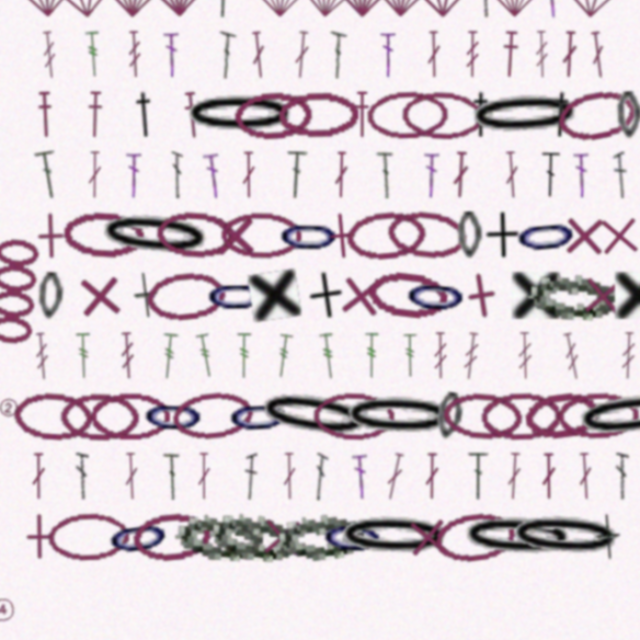chain: (231, 402, 344, 461), (522, 404, 634, 459), (87, 241, 198, 293), (462, 517, 572, 566), (425, 133, 535, 181), (419, 518, 528, 566), (311, 409, 420, 455), (306, 519, 415, 564), (166, 135, 274, 178), (506, 129, 586, 185), (190, 516, 274, 567), (251, 516, 335, 567), (395, 516, 473, 568), (156, 406, 235, 457), (352, 241, 430, 292), (334, 296, 411, 347), (132, 297, 210, 347), (160, 518, 242, 565), (477, 406, 552, 457), (315, 242, 392, 291), (482, 299, 563, 345), (120, 517, 196, 566), (403, 408, 480, 456), (57, 243, 133, 290), (142, 243, 217, 290), (12, 408, 86, 455), (213, 134, 288, 180), (367, 134, 442, 180), (335, 134, 411, 179), (286, 409, 361, 454), (509, 409, 584, 454), (44, 519, 119, 564), (439, 409, 513, 454), (254, 135, 328, 179), (202, 245, 276, 289), (95, 517, 160, 567), (55, 410, 128, 454), (83, 410, 156, 453), (468, 243, 531, 291), (368, 299, 430, 345), (292, 519, 354, 565), (206, 409, 268, 454), (129, 409, 190, 454), (253, 245, 313, 289), (187, 300, 247, 343), (397, 409, 425, 454), (563, 135, 587, 179), (35, 300, 59, 344), (418, 245, 441, 288)
double: (32, 189, 58, 234), (350, 465, 372, 509), (261, 190, 282, 233), (195, 25, 215, 68), (198, 80, 217, 124), (537, 80, 556, 124), (186, 190, 205, 234), (494, 190, 513, 233), (428, 465, 447, 508), (495, 25, 513, 69), (228, 80, 246, 124), (300, 80, 318, 124), (268, 80, 285, 124), (512, 80, 529, 123), (413, 190, 430, 233), (285, 465, 301, 509), (344, 190, 360, 233), (460, 190, 476, 233), (113, 465, 129, 508), (149, 465, 165, 508), (322, 465, 338, 508), (462, 465, 478, 508), (527, 465, 543, 508), (150, 80, 165, 123), (80, 190, 95, 233), (305, 190, 320, 233), (387, 190, 402, 233), (524, 190, 539, 233), (560, 190, 575, 233), (494, 465, 509, 508), (348, 80, 362, 123), (390, 80, 404, 123), (116, 190, 130, 233), (221, 190, 235, 233), (29, 465, 43, 508), (180, 465, 194, 508), (258, 465, 272, 508), (388, 465, 402, 508), (561, 465, 575, 508), (69, 465, 82, 508), (437, 25, 449, 68), (224, 465, 236, 508), (157, 190, 168, 233)
enseble_chain: (0, 268, 40, 371)
fan: (49, 23, 109, 71), (269, 23, 329, 70), (511, 24, 570, 70), (14, 24, 73, 69), (135, 24, 193, 69), (338, 24, 396, 69), (93, 25, 151, 69), (303, 25, 361, 69), (376, 25, 433, 69), (228, 25, 285, 68), (442, 25, 499, 68)
half_double: (499, 134, 527, 179), (120, 135, 146, 178), (427, 135, 453, 178), (166, 135, 186, 179), (457, 80, 476, 123), (33, 135, 51, 178), (79, 135, 96, 178), (323, 135, 340, 178)
noise: (604, 138, 634, 168), (0, 413, 20, 435), (608, 349, 640, 362), (0, 595, 16, 621)
single: (227, 297, 276, 346), (416, 297, 465, 346), (306, 298, 354, 346), (290, 244, 336, 290), (543, 244, 589, 290), (69, 299, 115, 345), (528, 299, 574, 345), (235, 519, 281, 565), (368, 519, 414, 565), (25, 245, 69, 289), (193, 245, 237, 289), (512, 245, 556, 289), (468, 300, 512, 343), (562, 300, 606, 343), (15, 520, 58, 563), (279, 298, 317, 345), (442, 245, 476, 288), (121, 299, 148, 344), (544, 520, 569, 564)
treble: (178, 354, 200, 399), (512, 355, 534, 399), (250, 355, 270, 399), (146, 355, 165, 399), (291, 355, 310, 399), (37, 80, 55, 124), (422, 355, 440, 399), (31, 355, 48, 399), (69, 355, 86, 398), (109, 355, 126, 398), (78, 80, 94, 123), (116, 80, 132, 123), (216, 355, 232, 398), (472, 355, 488, 398), (488, 80, 503, 123), (368, 355, 383, 398), (567, 355, 582, 398), (425, 80, 439, 123), (333, 355, 347, 398), (396, 355, 410, 398)
